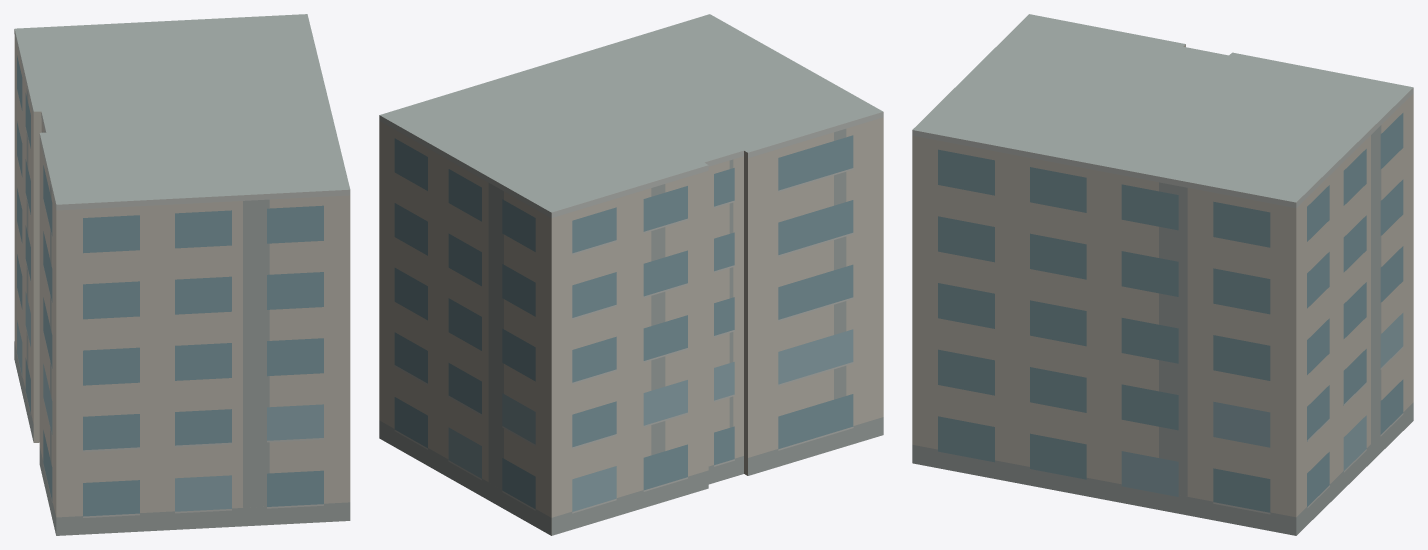
Rendered from survey-upis-32978257.glb.
3 renders of one model, left to right at view 1: azimuth 30°, elevation 25°; view 2: azimuth 150°, elevation 25°; view 3: azimuth 270°, elevation 25°, orthographic. The views are drawn at different scales.
Parts seen in each view (by area): view 1: survey-upis-32978257.tmp; view 2: survey-upis-32978257.tmp; view 3: survey-upis-32978257.tmp.
Boxes of the visible parts, left/top/right/bottom form: survey-upis-32978257.tmp: left=14, top=14, right=350, bottom=535; survey-upis-32978257.tmp: left=379, top=14, right=883, bottom=535; survey-upis-32978257.tmp: left=912, top=14, right=1413, bottom=535.
Bounding box in the file's own units: 17.11 × 14.1 × 19.23.
